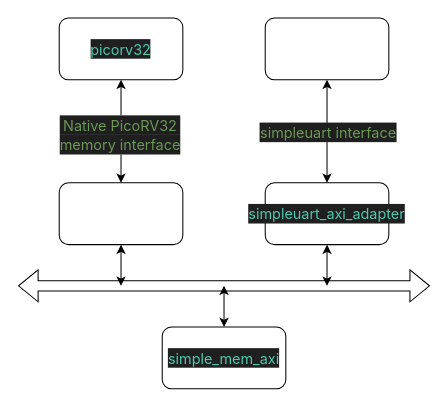
Image size: 447x407. Some labels were removed from this diagram. Here are the shapes that lost their labels. From the top down, the centre of each, then its label:
At point (326, 48): "simpleuart".
At point (120, 213): "picorv32_axi_adapter".
